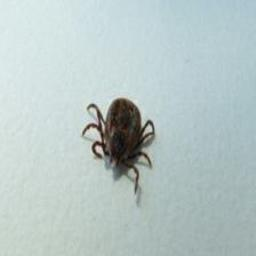Rhipicephalus sanguineus: (81, 101, 156, 195)
